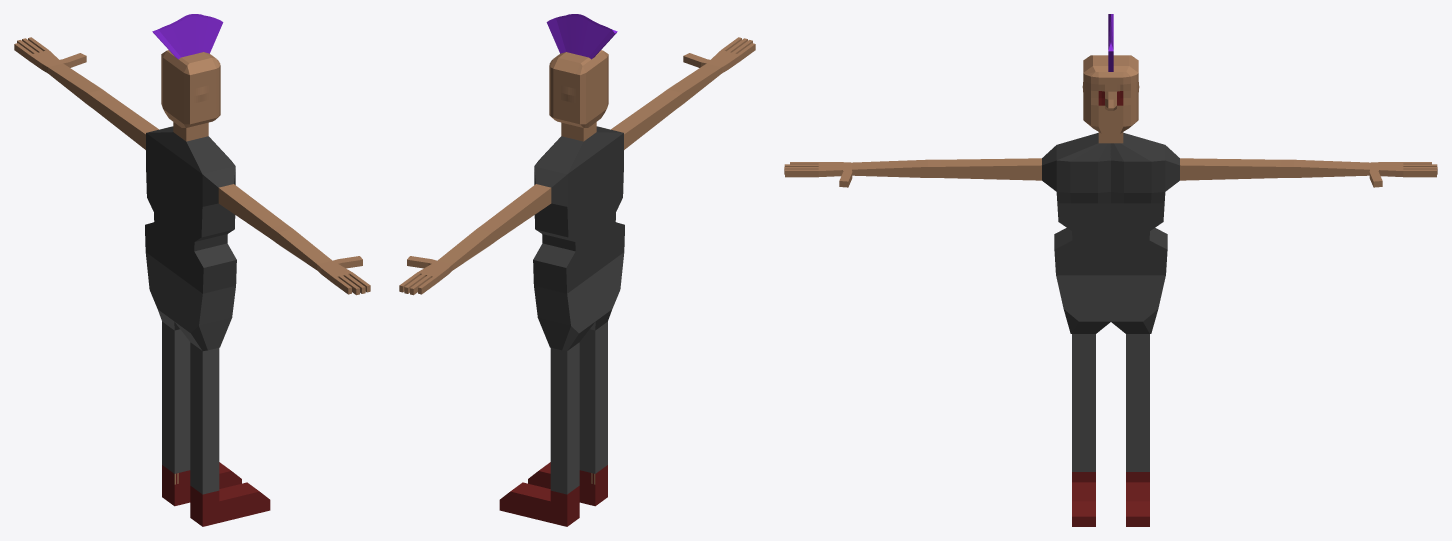
The model's file is GirlModelTwo.fbx.
3 renders of one model, left to right at view 1: azimuth 30°, elevation 25°; view 2: azimuth 150°, elevation 25°; view 3: azimuth 270°, elevation 25°, orthographic. The views are drawn at different scales.
Visible parts, largest first — view 1: Plane, Plane.001; view 2: Plane, Plane.001; view 3: Plane.
Part boxes in pixels (x1,y1,x2,y2): Plane: [14, 37, 370, 526]; Plane.001: [152, 14, 223, 59]; Plane: [399, 37, 755, 526]; Plane.001: [546, 14, 617, 59]; Plane: [784, 55, 1437, 526].
Size of the model in its own units: 208 by 1022 by 1269.
